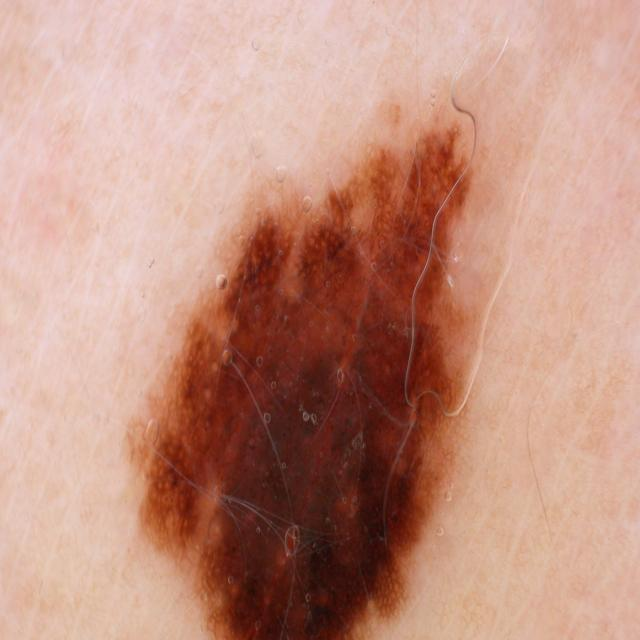Melanoma: (69, 104, 565, 640)
